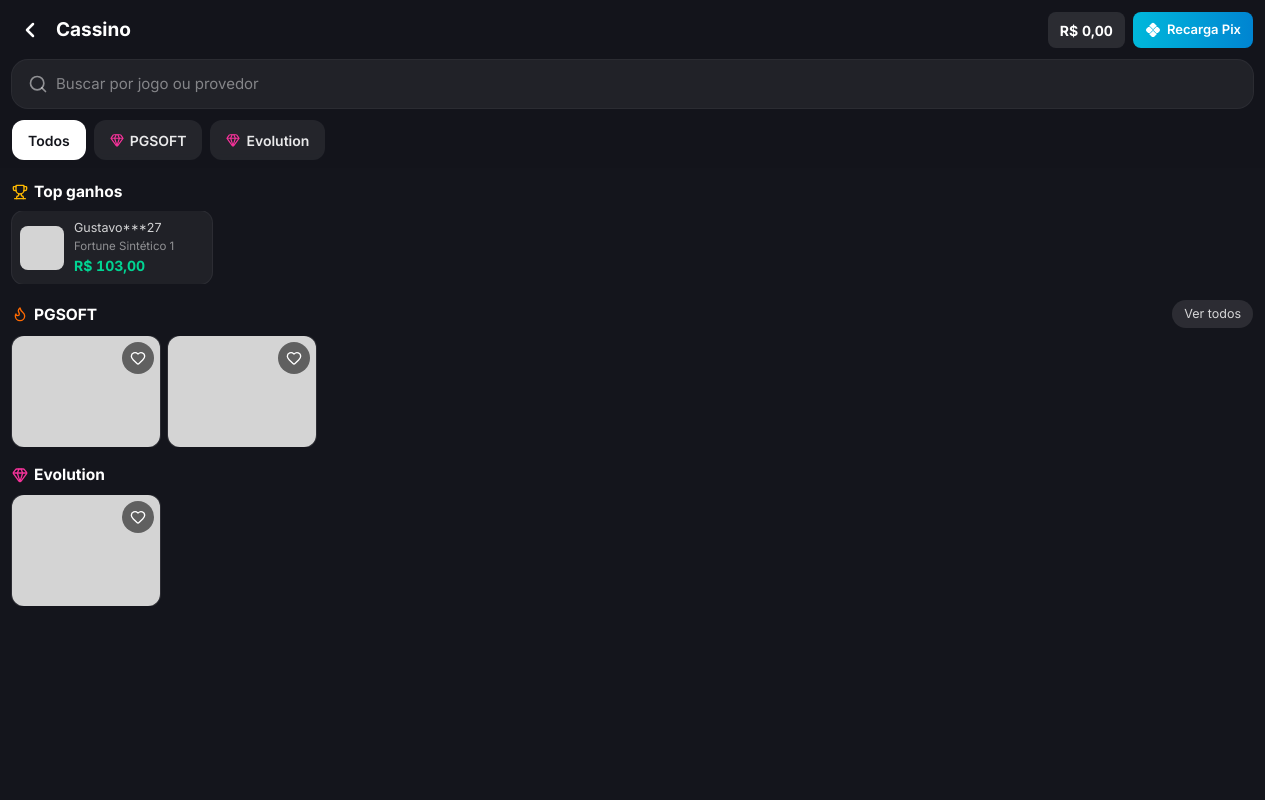
it: lobby do cassino › busca espera a digitação e mostra "Nenhum jogo encontrado"
Type "tig" into the search field labelled "Buscar por jogo ou provedor" at (646, 84), box [56,73,1237,95]
Wait 400 ms
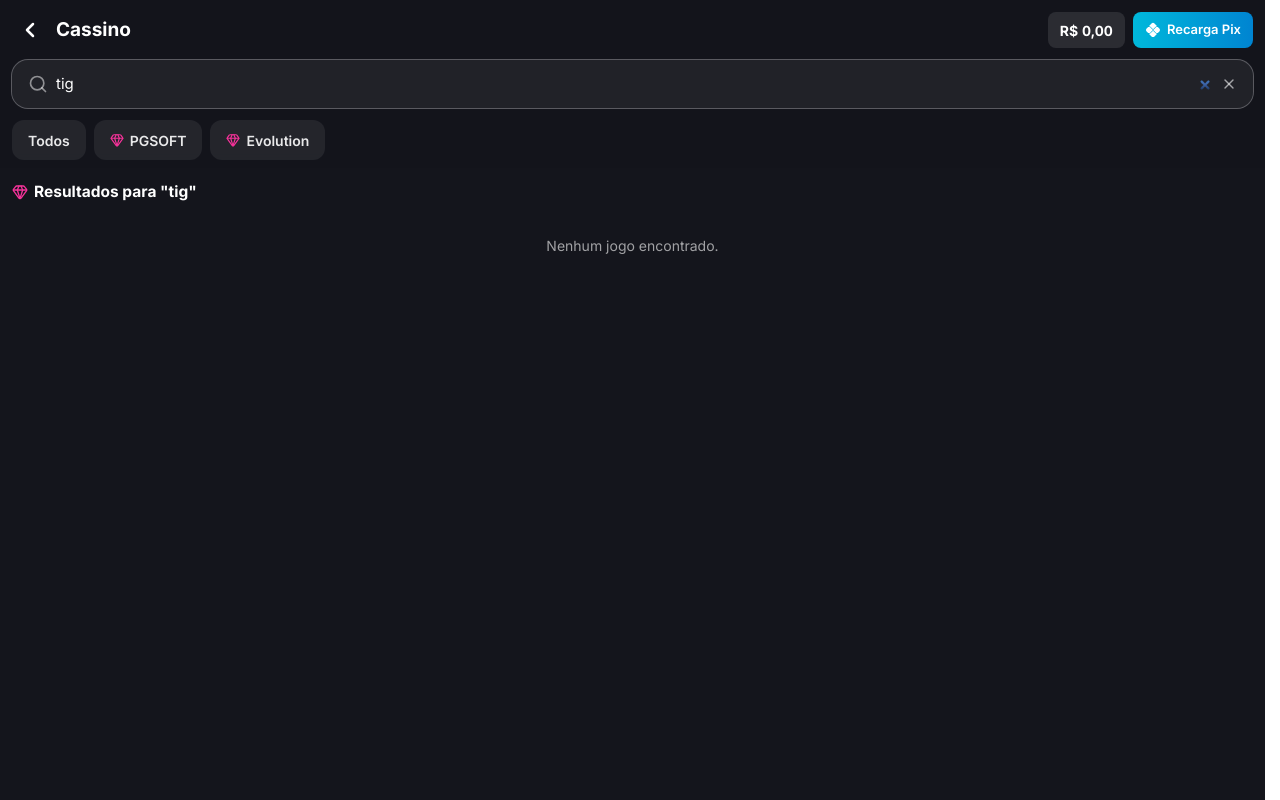
Expected: the text "Nenhum jogo encontrado." is shown, [546,237,719,254]
